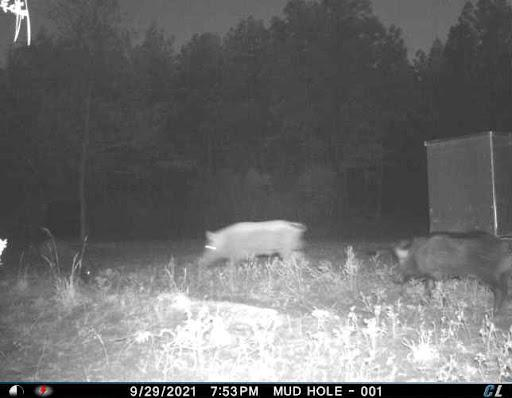Hog: (389, 227, 512, 307), (198, 214, 311, 281)
